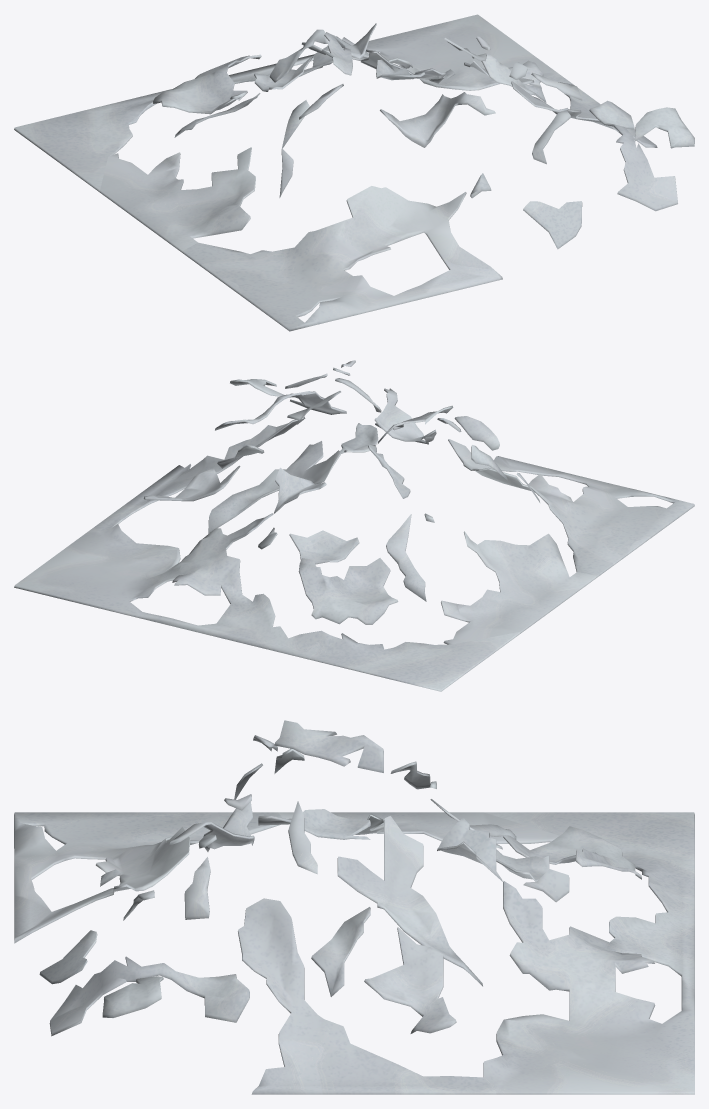
File: Mountains_1_Snow.fbx
3 views of the same model, one above another, from view 1: azimuth 30°, elevation 25°; view 2: azimuth 150°, elevation 25°; view 3: azimuth 270°, elevation 25° (orthographic). The views are drawn at different scales.
Parts seen in each view (by area): view 1: Mountain_1_Snow_LOD0; view 2: Mountain_1_Snow_LOD0; view 3: Mountain_1_Snow_LOD0.
Boxes of the visible parts, x1=… form: Mountain_1_Snow_LOD0: x1=14, y1=14, x2=694, y2=331; Mountain_1_Snow_LOD0: x1=14, y1=360, x2=694, y2=691; Mountain_1_Snow_LOD0: x1=14, y1=720, x2=694, y2=1094.
Size of what is drawn, in the model's own units: 1022 by 327 by 1052.
